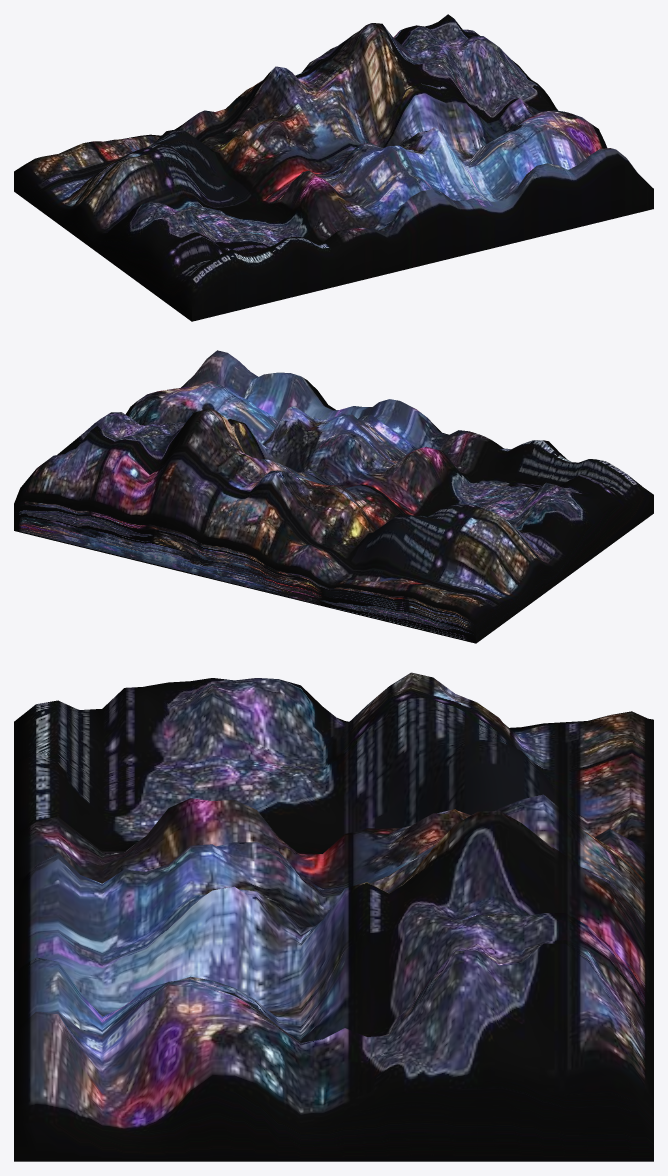
File: DISTRICT_01_Downtown.glb
3 views of the same model, one above another, from view 1: azimuth 30°, elevation 25°; view 2: azimuth 150°, elevation 25°; view 3: azimuth 270°, elevation 25° (orthographic). The views are drawn at different scales.
Visible parts, largest first — view 1: DISTRICT_01_Downtown; view 2: DISTRICT_01_Downtown; view 3: DISTRICT_01_Downtown.
Boxes of the visible parts, left/top/right/bottom form: DISTRICT_01_Downtown: left=14, top=14, right=653, bottom=321; DISTRICT_01_Downtown: left=14, top=350, right=653, bottom=643; DISTRICT_01_Downtown: left=14, top=672, right=653, bottom=1161.
Size of the model in its own units: 2 by 0.51 by 1.33.
1 material, 1 textured.
